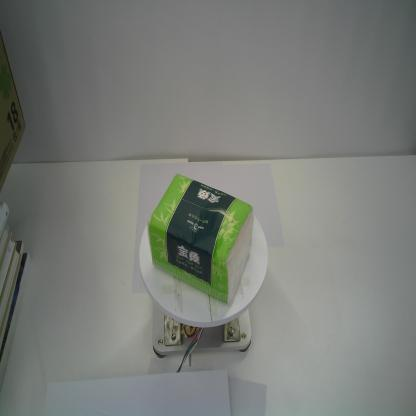Tissue: (146, 171, 255, 309)
